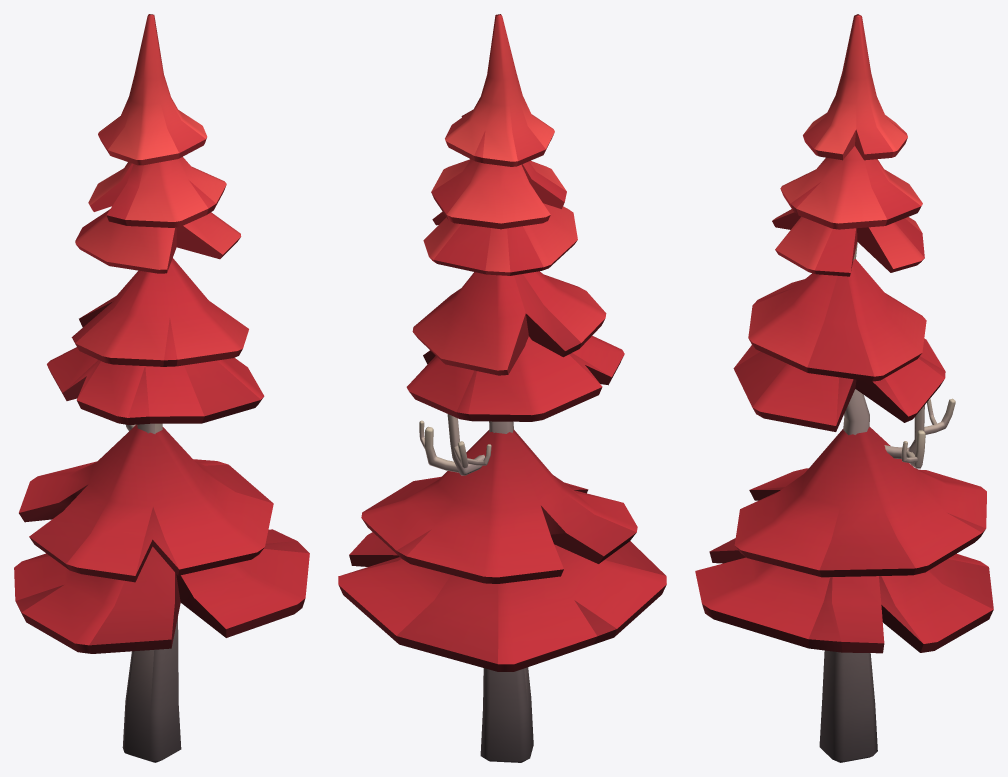
Rendered from pine_tree_col3_1.fbx.
3 views of the same model, side by side, from view 1: azimuth 30°, elevation 25°; view 2: azimuth 150°, elevation 25°; view 3: azimuth 270°, elevation 25° (orthographic).
Visible parts, largest first — view 1: pine_tree_col3_1; view 2: pine_tree_col3_1; view 3: pine_tree_col3_1.
Part boxes in pixels (x1,y1,x2,y2): pine_tree_col3_1: [14, 14, 309, 762]; pine_tree_col3_1: [338, 14, 666, 762]; pine_tree_col3_1: [695, 14, 993, 762].
Size of the model in its own units: 586 by 1573 by 575.
Materials: 1 (1 with a texture image).
